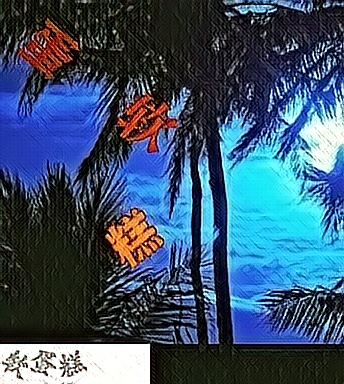B5B0: (19, 17, 81, 81)
B8E2: (103, 207, 165, 271)
C8ED: (116, 90, 178, 154)
